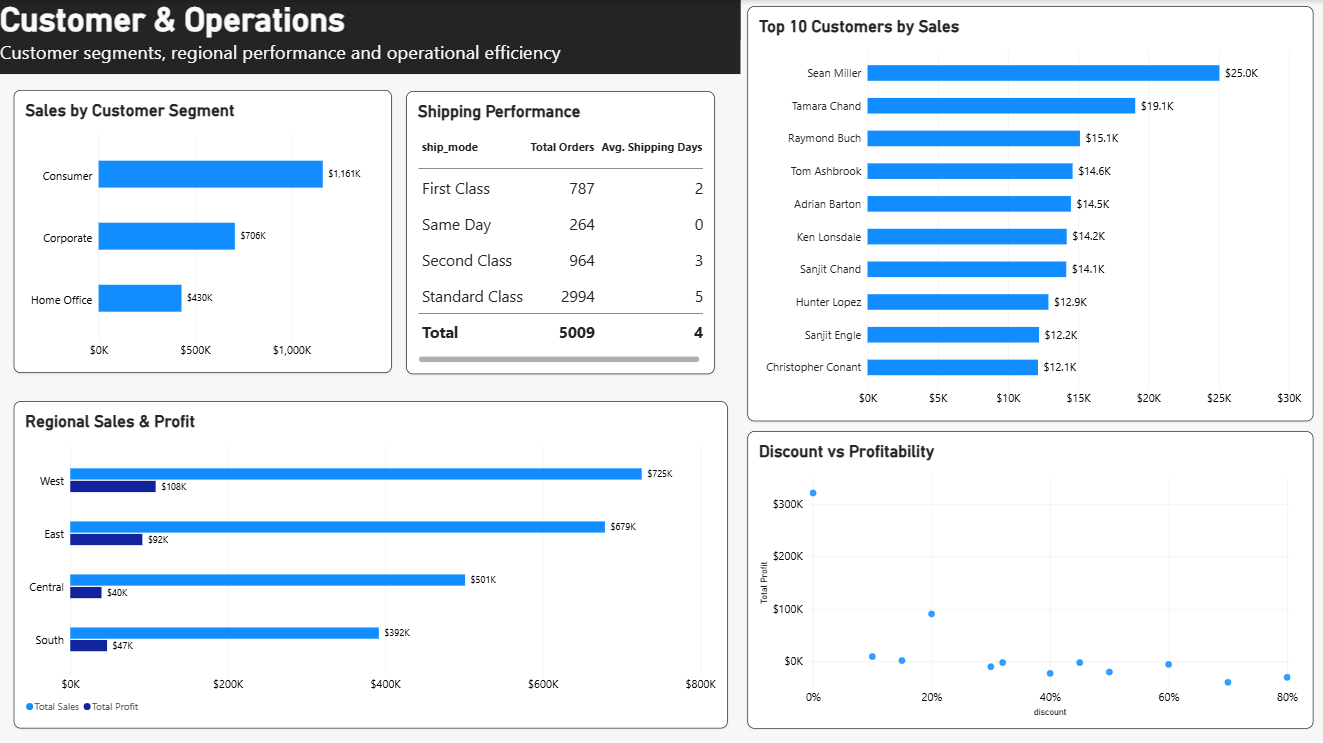

The dashboard page shown, as its layout file describes it:
{"tool":"powerbi","page":{"name":"Customer & Operations","canvas":[1920,1080],"ordinal":2},"visuals":[{"type":"tableEx","title":"Shipping Performance","fields":{"Values":["Sales.ship_mode","DateTable.Total Orders","DateTable.Average Shipping Days"]},"box":[588.7,131.7,446.7,409.6],"z":2},{"type":"scatterChart","title":"Discount vs Profitability","fields":{"X":["Sales.discount"],"Y":["DateTable.Total Profit"]},"box":[1082.7,623.7,819.2,430.2],"z":3},{"type":"textbox","title":"Customer & Operations","box":[0,0,1072.4,107],"z":5},{"type":"clusteredBarChart","title":"Top 10 Customers by Sales","fields":{"Category":["Sales.customer_name"],"Y":["DateTable.Total Sales"]},"box":[1082.7,8.2,819.2,601],"z":6},{"type":"clusteredBarChart","title":"Sales by Customer Segment","fields":{"Category":["Sales.segment"],"Y":["DateTable.Total Sales"]},"box":[20.6,129.7,547.5,409.6],"z":7},{"type":"clusteredBarChart","title":"Regional Sales & Profit","fields":{"Category":["Sales.region"],"Y":["DateTable.Total Sales","DateTable.Total Profit"]},"box":[20.6,580.4,1033.3,473.4],"z":8}]}

Visuals, with their boxes in screenshot pixels (x1, y1, x2, y2), scaled from the page's 1920x1080 canvas onto the 1323x743 screenshot:
"Shipping Performance" tableEx: BBox(406, 91, 713, 372)
"Discount vs Profitability" scatterChart: BBox(746, 429, 1311, 725)
"Customer & Operations" textbox: BBox(0, 0, 739, 74)
"Top 10 Customers by Sales" clusteredBarChart: BBox(746, 6, 1311, 419)
"Sales by Customer Segment" clusteredBarChart: BBox(14, 89, 391, 371)
"Regional Sales & Profit" clusteredBarChart: BBox(14, 399, 726, 725)
